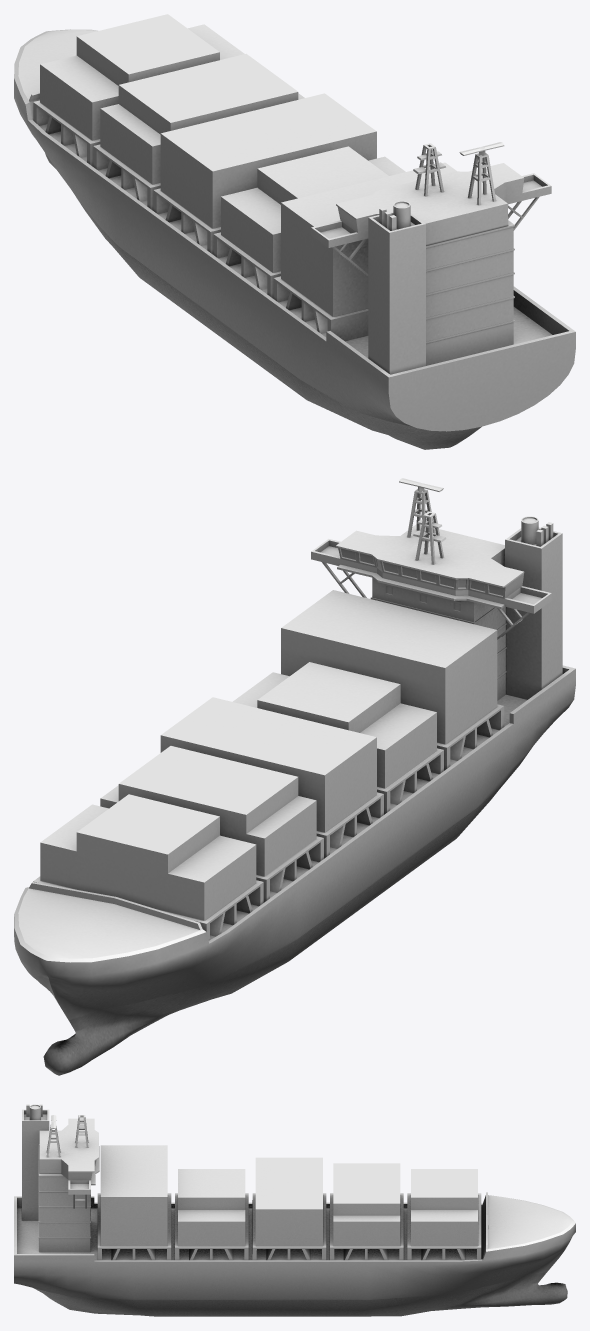
File: cargo-s.glb
3 views of the same model, one above another, from view 1: azimuth 30°, elevation 25°; view 2: azimuth 150°, elevation 25°; view 3: azimuth 270°, elevation 25° (orthographic). The views are drawn at different scales.
Parts seen in each view (by area): view 1: Cargo_S_LOD0; view 2: Cargo_S_LOD0; view 3: Cargo_S_LOD0.
Part boxes in pixels (x1,y1,x2,y2): Cargo_S_LOD0: (14,14,575,449); Cargo_S_LOD0: (14,478,575,1075); Cargo_S_LOD0: (14,1104,575,1316).
Bounding box in the file's own units: 2.93 × 3.81 × 9.93.
1 material, 1 textured.
